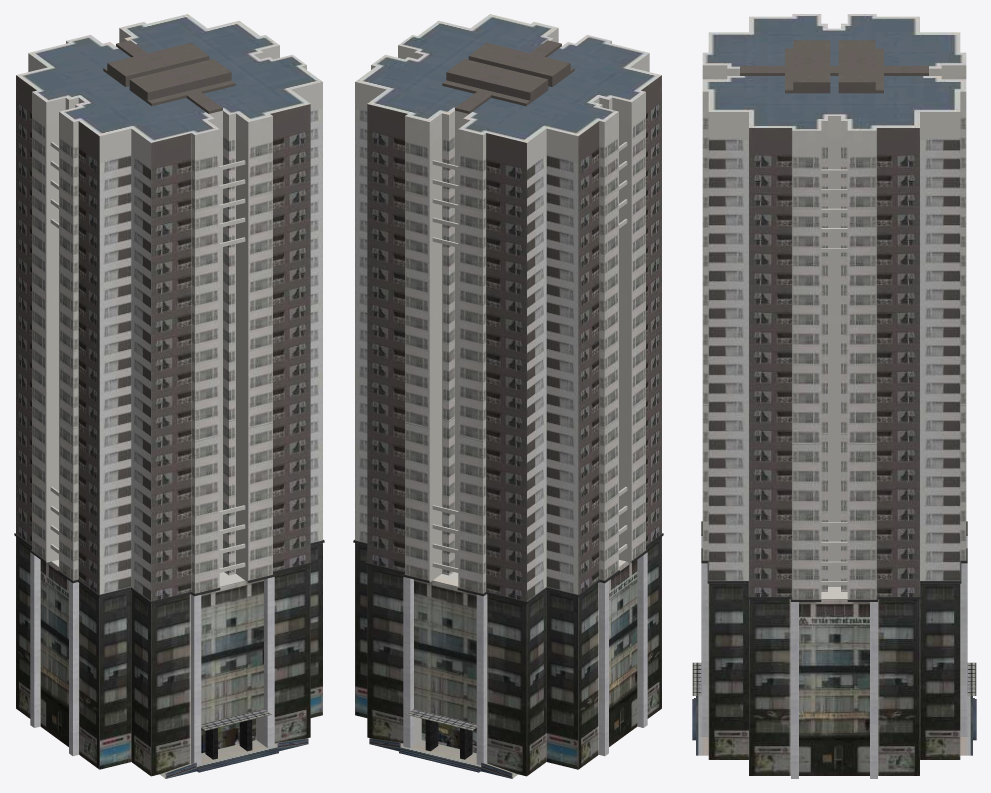
3 views of the same model, side by side, from view 1: azimuth 30°, elevation 25°; view 2: azimuth 150°, elevation 25°; view 3: azimuth 270°, elevation 25° (orthographic). The views are drawn at different scales.
Visible parts, largest first — view 1: HN476___25T1; view 2: HN476___25T1; view 3: HN476___25T1.
Part boxes in pixels (x1,y1,x2,y2): HN476___25T1: (14, 14, 324, 778); HN476___25T1: (353, 14, 663, 778); HN476___25T1: (692, 14, 976, 778).
Bounding box in the file's own units: 45.4 × 119 × 46.38.
1 material, 1 textured.
